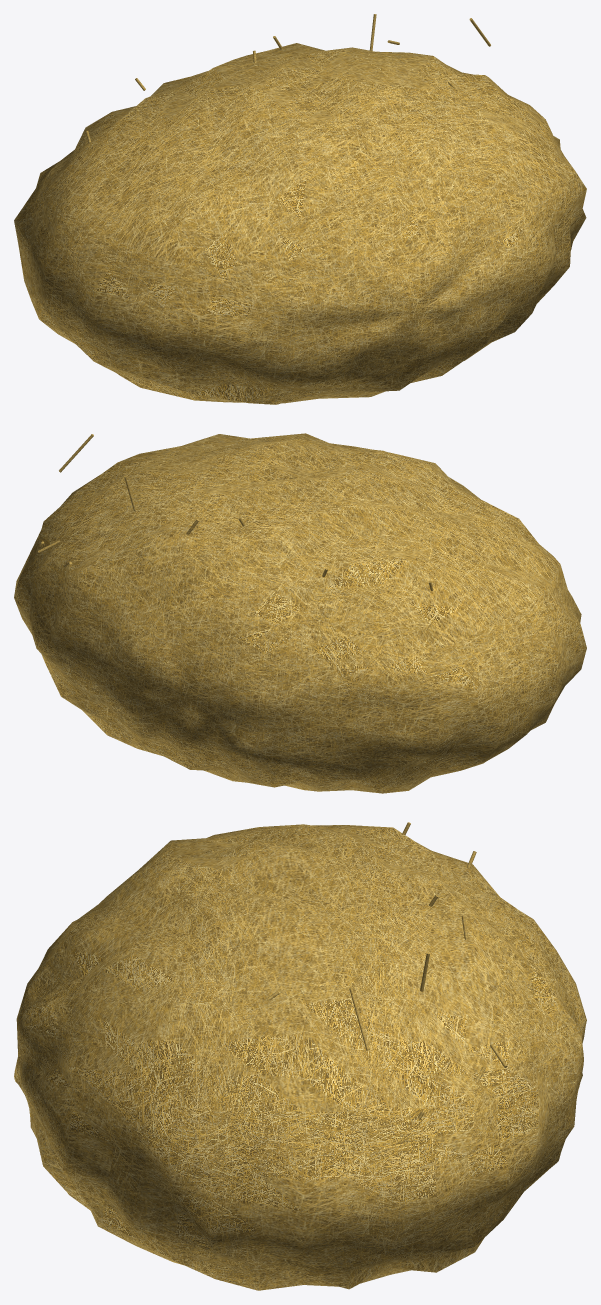
Rendered from prop_haystack.fbx.
The picture shows the model from 3 angles, top to bottom: view 1: azimuth 30°, elevation 25°; view 2: azimuth 150°, elevation 25°; view 3: azimuth 270°, elevation 25°; orthographic projection. The views are drawn at different scales.
Parts seen in each view (by area): view 1: prop_haystack; view 2: prop_haystack; view 3: prop_haystack.
Boxes of the visible parts, bbox=[...] form: prop_haystack: bbox=[14, 14, 586, 404]; prop_haystack: bbox=[14, 433, 586, 793]; prop_haystack: bbox=[14, 822, 586, 1290].
Size of the model in its own units: 2.84 by 1.55 by 2.23.
